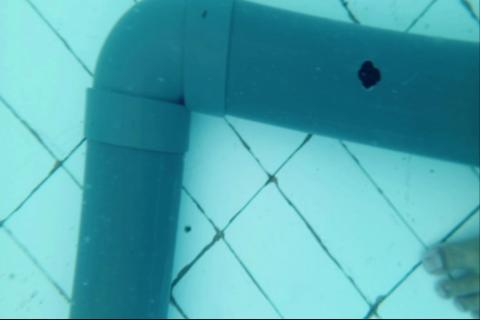kebocoran: (357, 60, 382, 92)
